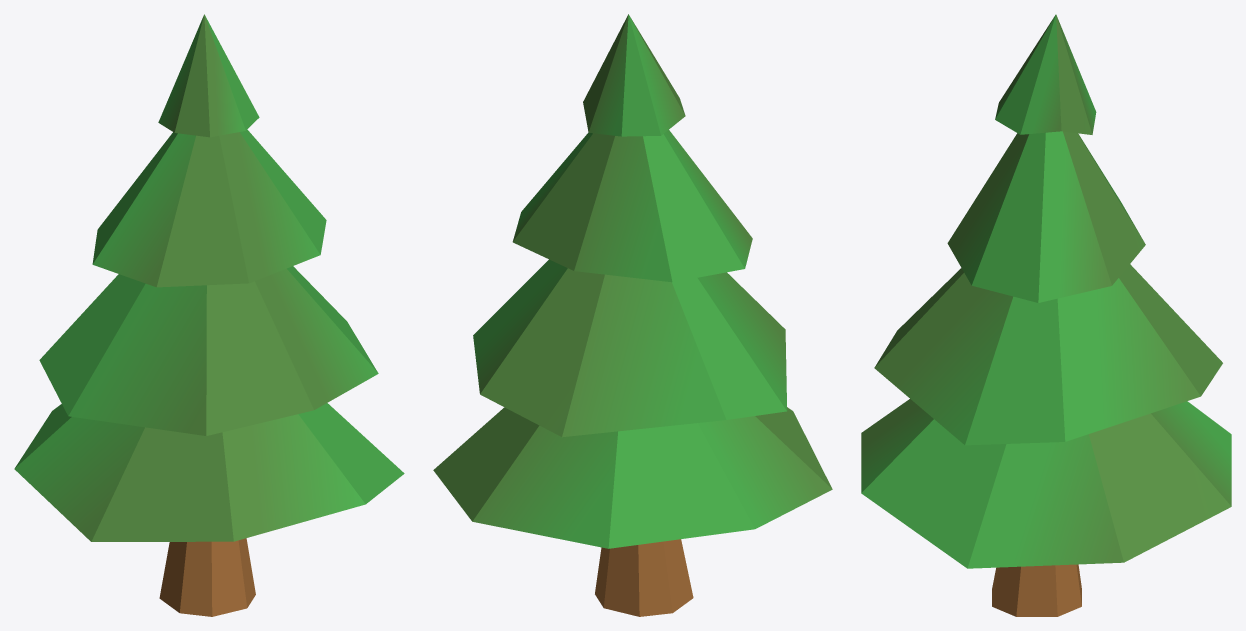
The model's file is tree2.fbx.
3 renders of one model, left to right at view 1: azimuth 30°, elevation 25°; view 2: azimuth 150°, elevation 25°; view 3: azimuth 270°, elevation 25°, orthographic. The views are drawn at different scales.
Visible parts, largest first — view 1: Cube; view 2: Cube; view 3: Cube.
Boxes of the visible parts, x1,y1,x2,y2 form: Cube: [14, 14, 404, 616]; Cube: [433, 14, 832, 616]; Cube: [861, 14, 1231, 616].
Size of the model in its own units: 825 by 1439 by 823.
